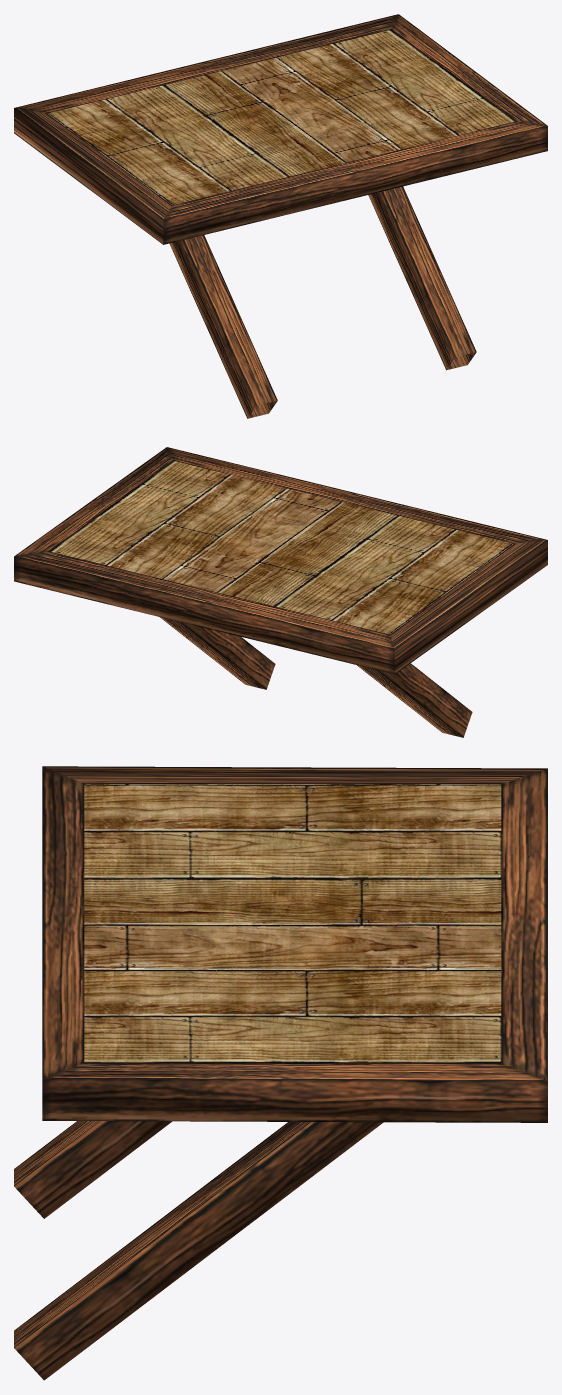
File: LAKETOWN_WAREHOUSE3_PS_WH3_PLATFORN84847__GX.fbx
3 renders of one model, top to bottom at view 1: azimuth 30°, elevation 25°; view 2: azimuth 150°, elevation 25°; view 3: azimuth 270°, elevation 25°, orthographic. The views are drawn at different scales.
Parts seen in each view (by area): view 1: LAKETOWN_WAREHOUSE3_PS_WH3_PLATFORN84847__GX; view 2: LAKETOWN_WAREHOUSE3_PS_WH3_PLATFORN84847__GX; view 3: LAKETOWN_WAREHOUSE3_PS_WH3_PLATFORN84847__GX.
Part boxes in pixels (left/top/right/bottom): LAKETOWN_WAREHOUSE3_PS_WH3_PLATFORN84847__GX: left=14, top=14, right=547, bottom=418; LAKETOWN_WAREHOUSE3_PS_WH3_PLATFORN84847__GX: left=14, top=447, right=547, bottom=737; LAKETOWN_WAREHOUSE3_PS_WH3_PLATFORN84847__GX: left=14, top=766, right=547, bottom=1380.
Size of the model in its own units: 31477 by 17101 by 22577.
2 materials, 2 textured.
